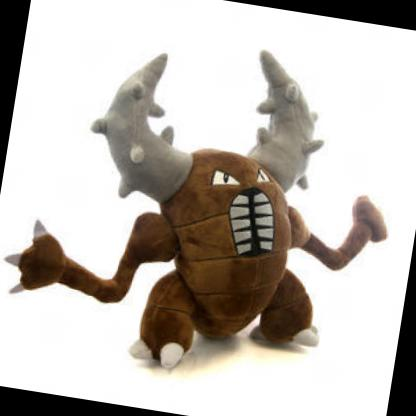Pinsir: (17, 17, 416, 416)
